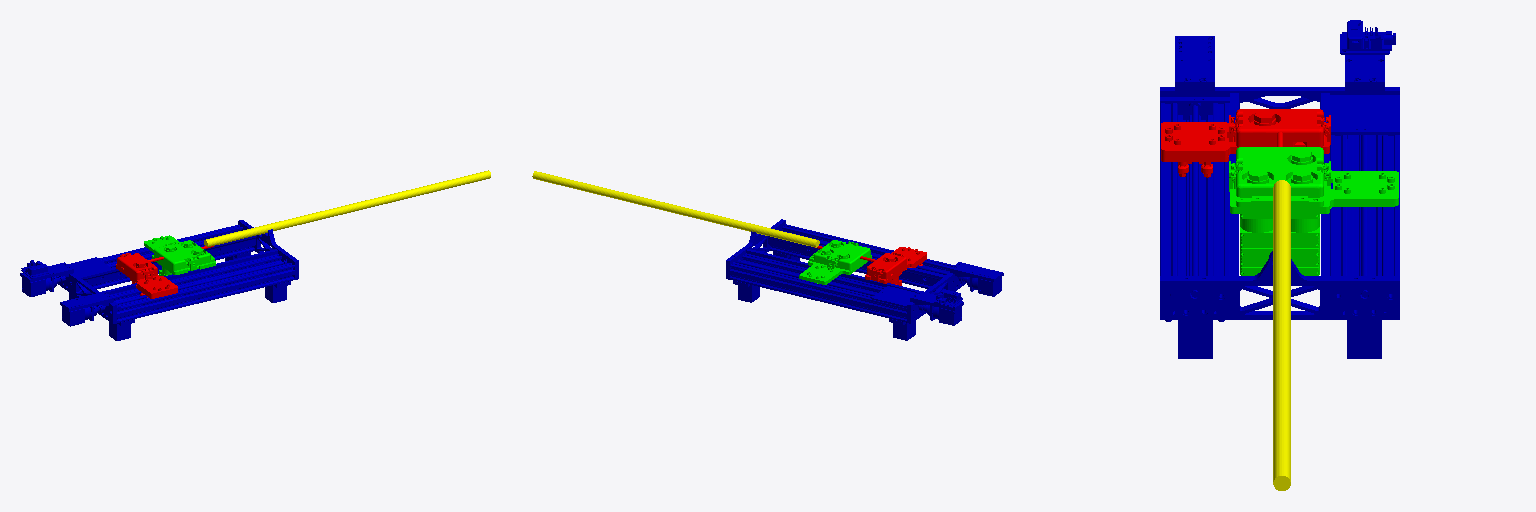
--- What the picture shows (computed from the rendered views, not written in the file) ---
Views: 3 orthographic renders of the robot side by side, from view 1: azimuth 30°, elevation 25°; view 2: azimuth 150°, elevation 25°; view 3: azimuth 270°, elevation 25°.
Robot: manipulator — 94 links, 93 joints (90 revolute, 2 prismatic, 1 fixed); root link base_link; default pose: all joints at 0.
Links seen in each view (by area): view 1: base_link, link_outer, link_inner, link_0; view 2: base_link, link_outer, link_inner, link_0; view 3: base_link, link_outer, link_inner, link_0.
Boxes of the visible links, x1=… form: base_link: x1=20, y1=220, x2=298, y2=340; link_outer: x1=144, y1=235, x2=215, y2=275; link_inner: x1=116, y1=246, x2=213, y2=298; link_0: x1=204, y1=222, x2=278, y2=246; base_link: x1=726, y1=219, x2=1003, y2=340; link_outer: x1=799, y1=240, x2=871, y2=284; link_inner: x1=814, y1=246, x2=926, y2=285; link_0: x1=745, y1=223, x2=819, y2=247; base_link: x1=1160, y1=20, x2=1399, y2=358; link_outer: x1=1229, y1=147, x2=1398, y2=275; link_inner: x1=1161, y1=109, x2=1330, y2=177; link_0: x1=1273, y1=180, x2=1290, y2=260.
Size in the robot's own frame: 1.26 by 0.2743 by 0.151 metres.
Meshes: 3 distinct files referenced, 3 mesh visuals loaded (3 binary STL).

The robot description file, URDF, robot "manipulator":
<?xml version="1.0" ?>
<!-- =================================================================================== -->
<!-- |    This document was autogenerated by xacro from medsnake.xacro                 | -->
<!-- |    EDITING THIS FILE BY HAND IS NOT RECOMMENDED                                 | -->
<!-- =================================================================================== -->
<robot name="manipulator">
  <material name="white">
    <color rgba="1 1 1 1"/>
  </material>
  <material name="blue">
    <color rgba="0 0 .8 1"/>
  </material>
  <material name="yellow">
    <color rgba="1 1 0 1"/>
  </material>
  <material name="green">
    <color rgba="0 1 0 1"/>
  </material>
  <material name="orange">
    <color rgba="0.255 0.165 0 1"/>
  </material>
  <material name="red">
    <color rgba="1 0 0 1"/>
  </material>
  <link name="base_link">
    <visual>
      <geometry>
        <mesh filename="package://medsnake_sim/meshModel/base_part.STL" scale="0.001 0.001 0.001"/>
      </geometry>
      <origin rpy="1.5707963 0 -1.5707963" xyz="0.822 0.315 -0.22"/>
      <material name="blue"/>
    </visual>
  </link>
  <joint name="joint_inner" type="prismatic">
    <parent link="base_link"/>
    <child link="link_inner"/>
    <origin rpy="1.5707963 0 1.5707963" xyz="0.1 0 0.04"/>
    <limit effort="1000" lower="0" upper="0.35000000000000003" velocity="180"/>
    <axis xyz="0 0 1"/>
  </joint>
  <link name="link_inner">
    <inertial>
      <origin rpy="0 0 0" xyz="0 -0.016 0.161"/>
      <mass value="7.7"/>
      <inertia ixx="0.06718763333333333" ixy="0" ixz="0" iyy="0.06653056666666667" iyz="0" izz="0.0006570666666666666"/>
    </inertial>
    <visual>
      <geometry>
        <mesh filename="package://medsnake_sim/meshModel/inner_part.STL" scale="0.001 0.001 0.001"/>
      </geometry>
      <origin rpy="0 3.1415926 0" xyz="0.315 -0.26 0.732"/>
      <material name="red"/>
    </visual>
  </link>
  <joint name="joint_outer" type="prismatic">
    <parent link="base_link"/>
    <child link="link_outer"/>
    <origin rpy="1.5707963 0 1.5707963" xyz="0.2 0 0.04"/>
    <limit effort="1000" lower="0" upper="0.35000000000000003" velocity="180"/>
    <axis xyz="0 0 1"/>
  </joint>
  <link name="link_outer">
    <inertial>
      <origin rpy="1.5707963 0 1.5707963" xyz="0 -0.016 0.161"/>
      <mass value="7.7"/>
      <inertia ixx="0.06718763333333333" ixy="0" ixz="0" iyy="0.06653056666666667" iyz="0" izz="0.0006570666666666666"/>
    </inertial>
    <visual>
      <geometry>
        <mesh filename="package://medsnake_sim/meshModel/outer_part.STL" scale="0.001 0.001 0.001"/>
      </geometry>
      <origin rpy="0 3.1415926 0" xyz="0.315 -0.26 0.662"/>
      <material name="green"/>
    </visual>
  </link>
  <joint name="joint_snake" type="fixed">
    <parent link="link_outer"/>
    <child link="link_0"/>
    <origin rpy="0 0 0" xyz="0 0 0.12"/>
    <limit effort="1000" lower="0" upper="0.35000000000000003" velocity="180"/>
    <axis xyz="0 0 1"/>
  </joint>
  <link name="link_0">
    <visual>
      <geometry>
        <cylinder length="0.2" radius="0.01"/>
      </geometry>
      <origin rpy="0 0 0" xyz="0 0 0.1"/>
      <material name="yellow"/>
    </visual>
    <collision>
      <geometry>
        <cylinder length="0.2" radius="0.01"/>
      </geometry>
      <origin rpy="0 0 0" xyz="0 0 0.1"/>
    </collision>
  </link>
  <link name="link_30">
    <visual>
      <geometry>
        <cylinder length="0.02" radius="0.01"/>
      </geometry>
      <origin rpy="0 0 0" xyz="0 0 0.01"/>
      <material name="yellow"/>
    </visual>
    <collision>
      <geometry>
        <cylinder length="0.02" radius="0.01"/>
      </geometry>
      <origin rpy="0 0 0" xyz="0 0 0.01"/>
    </collision>
  </link>
  <joint name="balljoint_30_0" type="revolute">
    <parent link="link_29"/>
    <child link="zero_link_30_0"/>
    <origin rpy="0 0 0" xyz="0 0 0.02"/>
    <axis xyz="1 0 0"/>
    <limit effort="1000.0" lower="-0.78" upper="0.78" velocity="0.5"/>
  </joint>
  <link name="zero_link_30_0">
    <visual>
      <geometry>
        <cylinder length="0" radius="0"/>
      </geometry>
      <origin rpy="0 0 0" xyz="0 0 0"/>
    </visual>
  </link>
  <joint name="balljoint_30_1" type="revolute">
    <parent link="zero_link_30_0"/>
    <child link="zero_link_30_1"/>
    <origin rpy="0 0 0" xyz="0 0 0"/>
    <axis xyz="0 1 0"/>
    <limit effort="1000.0" lower="-0.78" upper="0.78" velocity="0.5"/>
  </joint>
  <link name="zero_link_30_1">
    <visual>
      <geometry>
        <cylinder length="0" radius="0"/>
      </geometry>
      <origin rpy="0 0 0" xyz="0 0 0"/>
    </visual>
  </link>
  <joint name="balljoint_30_2" type="revolute">
    <parent link="zero_link_30_1"/>
    <child link="link_30"/>
    <origin rpy="0 0 0" xyz="0 0 0"/>
    <axis xyz="0 0 1"/>
    <limit effort="1000.0" lower="-0.78" upper="0.78" velocity="0.5"/>
  </joint>
  <link name="link_29">
    <visual>
      <geometry>
        <cylinder length="0.02" radius="0.01"/>
      </geometry>
      <origin rpy="0 0 0" xyz="0 0 0.01"/>
      <material name="yellow"/>
    </visual>
    <collision>
      <geometry>
        <cylinder length="0.02" radius="0.01"/>
      </geometry>
      <origin rpy="0 0 0" xyz="0 0 0.01"/>
    </collision>
  </link>
  <joint name="balljoint_29_0" type="revolute">
    <parent link="link_28"/>
    <child link="zero_link_29_0"/>
    <origin rpy="0 0 0" xyz="0 0 0.02"/>
    <axis xyz="1 0 0"/>
    <limit effort="1000.0" lower="-0.78" upper="0.78" velocity="0.5"/>
  </joint>
  <link name="zero_link_29_0">
    <visual>
      <geometry>
        <cylinder length="0" radius="0"/>
      </geometry>
      <origin rpy="0 0 0" xyz="0 0 0"/>
    </visual>
  </link>
  <joint name="balljoint_29_1" type="revolute">
    <parent link="zero_link_29_0"/>
    <child link="zero_link_29_1"/>
    <origin rpy="0 0 0" xyz="0 0 0"/>
    <axis xyz="0 1 0"/>
    <limit effort="1000.0" lower="-0.78" upper="0.78" velocity="0.5"/>
  </joint>
  <link name="zero_link_29_1">
    <visual>
      <geometry>
        <cylinder length="0" radius="0"/>
      </geometry>
      <origin rpy="0 0 0" xyz="0 0 0"/>
    </visual>
  </link>
  <joint name="balljoint_29_2" type="revolute">
    <parent link="zero_link_29_1"/>
    <child link="link_29"/>
    <origin rpy="0 0 0" xyz="0 0 0"/>
    <axis xyz="0 0 1"/>
    <limit effort="1000.0" lower="-0.78" upper="0.78" velocity="0.5"/>
  </joint>
  <link name="link_28">
    <visual>
      <geometry>
        <cylinder length="0.02" radius="0.01"/>
      </geometry>
      <origin rpy="0 0 0" xyz="0 0 0.01"/>
      <material name="yellow"/>
    </visual>
    <collision>
      <geometry>
        <cylinder length="0.02" radius="0.01"/>
      </geometry>
      <origin rpy="0 0 0" xyz="0 0 0.01"/>
    </collision>
  </link>
  <joint name="balljoint_28_0" type="revolute">
    <parent link="link_27"/>
    <child link="zero_link_28_0"/>
    <origin rpy="0 0 0" xyz="0 0 0.02"/>
    <axis xyz="1 0 0"/>
    <limit effort="1000.0" lower="-0.78" upper="0.78" velocity="0.5"/>
  </joint>
  <link name="zero_link_28_0">
    <visual>
      <geometry>
        <cylinder length="0" radius="0"/>
      </geometry>
      <origin rpy="0 0 0" xyz="0 0 0"/>
    </visual>
  </link>
  <joint name="balljoint_28_1" type="revolute">
    <parent link="zero_link_28_0"/>
    <child link="zero_link_28_1"/>
    <origin rpy="0 0 0" xyz="0 0 0"/>
    <axis xyz="0 1 0"/>
    <limit effort="1000.0" lower="-0.78" upper="0.78" velocity="0.5"/>
  </joint>
  <link name="zero_link_28_1">
    <visual>
      <geometry>
        <cylinder length="0" radius="0"/>
      </geometry>
      <origin rpy="0 0 0" xyz="0 0 0"/>
    </visual>
  </link>
  <joint name="balljoint_28_2" type="revolute">
    <parent link="zero_link_28_1"/>
    <child link="link_28"/>
    <origin rpy="0 0 0" xyz="0 0 0"/>
    <axis xyz="0 0 1"/>
    <limit effort="1000.0" lower="-0.78" upper="0.78" velocity="0.5"/>
  </joint>
  <link name="link_27">
    <visual>
      <geometry>
        <cylinder length="0.02" radius="0.01"/>
      </geometry>
      <origin rpy="0 0 0" xyz="0 0 0.01"/>
      <material name="yellow"/>
    </visual>
    <collision>
      <geometry>
        <cylinder length="0.02" radius="0.01"/>
      </geometry>
      <origin rpy="0 0 0" xyz="0 0 0.01"/>
    </collision>
  </link>
  <joint name="balljoint_27_0" type="revolute">
    <parent link="link_26"/>
    <child link="zero_link_27_0"/>
    <origin rpy="0 0 0" xyz="0 0 0.02"/>
    <axis xyz="1 0 0"/>
    <limit effort="1000.0" lower="-0.78" upper="0.78" velocity="0.5"/>
  </joint>
  <link name="zero_link_27_0">
    <visual>
      <geometry>
        <cylinder length="0" radius="0"/>
      </geometry>
      <origin rpy="0 0 0" xyz="0 0 0"/>
    </visual>
  </link>
  <joint name="balljoint_27_1" type="revolute">
    <parent link="zero_link_27_0"/>
    <child link="zero_link_27_1"/>
    <origin rpy="0 0 0" xyz="0 0 0"/>
    <axis xyz="0 1 0"/>
    <limit effort="1000.0" lower="-0.78" upper="0.78" velocity="0.5"/>
  </joint>
  <link name="zero_link_27_1">
    <visual>
      <geometry>
        <cylinder length="0" radius="0"/>
      </geometry>
      <origin rpy="0 0 0" xyz="0 0 0"/>
    </visual>
  </link>
  <joint name="balljoint_27_2" type="revolute">
    <parent link="zero_link_27_1"/>
    <child link="link_27"/>
    <origin rpy="0 0 0" xyz="0 0 0"/>
    <axis xyz="0 0 1"/>
    <limit effort="1000.0" lower="-0.78" upper="0.78" velocity="0.5"/>
  </joint>
  <link name="link_26">
    <visual>
      <geometry>
        <cylinder length="0.02" radius="0.01"/>
      </geometry>
      <origin rpy="0 0 0" xyz="0 0 0.01"/>
      <material name="yellow"/>
    </visual>
    <collision>
      <geometry>
        <cylinder length="0.02" radius="0.01"/>
      </geometry>
      <origin rpy="0 0 0" xyz="0 0 0.01"/>
    </collision>
  </link>
  <joint name="balljoint_26_0" type="revolute">
    <parent link="link_25"/>
    <child link="zero_link_26_0"/>
    <origin rpy="0 0 0" xyz="0 0 0.02"/>
    <axis xyz="1 0 0"/>
    <limit effort="1000.0" lower="-0.78" upper="0.78" velocity="0.5"/>
  </joint>
  <link name="zero_link_26_0">
    <visual>
      <geometry>
        <cylinder length="0" radius="0"/>
      </geometry>
      <origin rpy="0 0 0" xyz="0 0 0"/>
    </visual>
  </link>
  <joint name="balljoint_26_1" type="revolute">
    <parent link="zero_link_26_0"/>
    <child link="zero_link_26_1"/>
    <origin rpy="0 0 0" xyz="0 0 0"/>
    <axis xyz="0 1 0"/>
    <limit effort="1000.0" lower="-0.78" upper="0.78" velocity="0.5"/>
  </joint>
  <link name="zero_link_26_1">
    <visual>
      <geometry>
        <cylinder length="0" radius="0"/>
      </geometry>
      <origin rpy="0 0 0" xyz="0 0 0"/>
    </visual>
  </link>
  <joint name="balljoint_26_2" type="revolute">
    <parent link="zero_link_26_1"/>
    <child link="link_26"/>
    <origin rpy="0 0 0" xyz="0 0 0"/>
    <axis xyz="0 0 1"/>
    <limit effort="1000.0" lower="-0.78" upper="0.78" velocity="0.5"/>
  </joint>
  <link name="link_25">
    <visual>
      <geometry>
        <cylinder length="0.02" radius="0.01"/>
      </geometry>
      <origin rpy="0 0 0" xyz="0 0 0.01"/>
      <material name="yellow"/>
    </visual>
    <collision>
      <geometry>
        <cylinder length="0.02" radius="0.01"/>
      </geometry>
      <origin rpy="0 0 0" xyz="0 0 0.01"/>
    </collision>
  </link>
  <joint name="balljoint_25_0" type="revolute">
    <parent link="link_24"/>
    <child link="zero_link_25_0"/>
    <origin rpy="0 0 0" xyz="0 0 0.02"/>
    <axis xyz="1 0 0"/>
    <limit effort="1000.0" lower="-0.78" upper="0.78" velocity="0.5"/>
  </joint>
  <link name="zero_link_25_0">
    <visual>
      <geometry>
        <cylinder length="0" radius="0"/>
      </geometry>
      <origin rpy="0 0 0" xyz="0 0 0"/>
    </visual>
  </link>
  <joint name="balljoint_25_1" type="revolute">
    <parent link="zero_link_25_0"/>
    <child link="zero_link_25_1"/>
    <origin rpy="0 0 0" xyz="0 0 0"/>
    <axis xyz="0 1 0"/>
    <limit effort="1000.0" lower="-0.78" upper="0.78" velocity="0.5"/>
  </joint>
  <link name="zero_link_25_1">
    <visual>
      <geometry>
        <cylinder length="0" radius="0"/>
      </geometry>
      <origin rpy="0 0 0" xyz="0 0 0"/>
    </visual>
  </link>
  <joint name="balljoint_25_2" type="revolute">
    <parent link="zero_link_25_1"/>
    <child link="link_25"/>
    <origin rpy="0 0 0" xyz="0 0 0"/>
    <axis xyz="0 0 1"/>
    <limit effort="1000.0" lower="-0.78" upper="0.78" velocity="0.5"/>
  </joint>
  <link name="link_24">
    <visual>
      <geometry>
        <cylinder length="0.02" radius="0.01"/>
      </geometry>
      <origin rpy="0 0 0" xyz="0 0 0.01"/>
      <material name="yellow"/>
    </visual>
    <collision>
      <geometry>
        <cylinder length="0.02" radius="0.01"/>
      </geometry>
      <origin rpy="0 0 0" xyz="0 0 0.01"/>
    </collision>
  </link>
  <joint name="balljoint_24_0" type="revolute">
    <parent link="link_23"/>
    <child link="zero_link_24_0"/>
    <origin rpy="0 0 0" xyz="0 0 0.02"/>
    <axis xyz="1 0 0"/>
    <limit effort="1000.0" lower="-0.78" upper="0.78" velocity="0.5"/>
  </joint>
  <link name="zero_link_24_0">
    <visual>
      <geometry>
        <cylinder length="0" radius="0"/>
      </geometry>
      <origin rpy="0 0 0" xyz="0 0 0"/>
    </visual>
  </link>
  <joint name="balljoint_24_1" type="revolute">
    <parent link="zero_link_24_0"/>
    <child link="zero_link_24_1"/>
    <origin rpy="0 0 0" xyz="0 0 0"/>
    <axis xyz="0 1 0"/>
    <limit effort="1000.0" lower="-0.78" upper="0.78" velocity="0.5"/>
  </joint>
  <link name="zero_link_24_1">
    <visual>
      <geometry>
        <cylinder length="0" radius="0"/>
      </geometry>
      <origin rpy="0 0 0" xyz="0 0 0"/>
    </visual>
  </link>
  <joint name="balljoint_24_2" type="revolute">
    <parent link="zero_link_24_1"/>
    <child link="link_24"/>
    <origin rpy="0 0 0" xyz="0 0 0"/>
    <axis xyz="0 0 1"/>
    <limit effort="1000.0" lower="-0.78" upper="0.78" velocity="0.5"/>
  </joint>
  <link name="link_23">
    <visual>
      <geometry>
        <cylinder length="0.02" radius="0.01"/>
      </geometry>
      <origin rpy="0 0 0" xyz="0 0 0.01"/>
      <material name="yellow"/>
    </visual>
    <collision>
      <geometry>
        <cylinder length="0.02" radius="0.01"/>
      </geometry>
      <origin rpy="0 0 0" xyz="0 0 0.01"/>
    </collision>
  </link>
  <joint name="balljoint_23_0" type="revolute">
    <parent link="link_22"/>
    <child link="zero_link_23_0"/>
    <origin rpy="0 0 0" xyz="0 0 0.02"/>
    <axis xyz="1 0 0"/>
    <limit effort="1000.0" lower="-0.78" upper="0.78" velocity="0.5"/>
  </joint>
  <link name="zero_link_23_0">
    <visual>
      <geometry>
        <cylinder length="0" radius="0"/>
      </geometry>
      <origin rpy="0 0 0" xyz="0 0 0"/>
    </visual>
  </link>
  <joint name="balljoint_23_1" type="revolute">
    <parent link="zero_link_23_0"/>
    <child link="zero_link_23_1"/>
    <origin rpy="0 0 0" xyz="0 0 0"/>
    <axis xyz="0 1 0"/>
    <limit effort="1000.0" lower="-0.78" upper="0.78" velocity="0.5"/>
  </joint>
  <link name="zero_link_23_1">
    <visual>
      <geometry>
        <cylinder length="0" radius="0"/>
      </geometry>
      <origin rpy="0 0 0" xyz="0 0 0"/>
    </visual>
  </link>
  <joint name="balljoint_23_2" type="revolute">
    <parent link="zero_link_23_1"/>
    <child link="link_23"/>
    <origin rpy="0 0 0" xyz="0 0 0"/>
    <axis xyz="0 0 1"/>
    <limit effort="1000.0" lower="-0.78" upper="0.78" velocity="0.5"/>
  </joint>
  <link name="link_22">
    <visual>
      <geometry>
        <cylinder length="0.02" radius="0.01"/>
      </geometry>
      <origin rpy="0 0 0" xyz="0 0 0.01"/>
      <material name="yellow"/>
    </visual>
    <collision>
      <geometry>
        <cylinder length="0.02" radius="0.01"/>
      </geometry>
      <origin rpy="0 0 0" xyz="0 0 0.01"/>
    </collision>
  </link>
  <joint name="balljoint_22_0" type="revolute">
    <parent link="link_21"/>
    <child link="zero_link_22_0"/>
    <origin rpy="0 0 0" xyz="0 0 0.02"/>
    <axis xyz="1 0 0"/>
    <limit effort="1000.0" lower="-0.78" upper="0.78" velocity="0.5"/>
  </joint>
  <link name="zero_link_22_0">
    <visual>
      <geometry>
        <cylinder length="0" radius="0"/>
      </geometry>
      <origin rpy="0 0 0" xyz="0 0 0"/>
    </visual>
  </link>
  <joint name="balljoint_22_1" type="revolute">
    <parent link="zero_link_22_0"/>
    <child link="zero_link_22_1"/>
    <origin rpy="0 0 0" xyz="0 0 0"/>
    <axis xyz="0 1 0"/>
    <limit effort="1000.0" lower="-0.78" upper="0.78" velocity="0.5"/>
  </joint>
  <link name="zero_link_22_1">
    <visual>
      <geometry>
        <cylinder length="0" radius="0"/>
      </geometry>
      <origin rpy="0 0 0" xyz="0 0 0"/>
    </visual>
  </link>
  <joint name="balljoint_22_2" type="revolute">
    <parent link="zero_link_22_1"/>
    <child link="link_22"/>
    <origin rpy="0 0 0" xyz="0 0 0"/>
    <axis xyz="0 0 1"/>
    <limit effort="1000.0" lower="-0.78" upper="0.78" velocity="0.5"/>
  </joint>
  <link name="link_21">
    <visual>
      <geometry>
        <cylinder length="0.02" radius="0.01"/>
      </geometry>
      <origin rpy="0 0 0" xyz="0 0 0.01"/>
      <material name="yellow"/>
    </visual>
    <collision>
      <geometry>
        <cylinder length="0.02" radius="0.01"/>
      </geometry>
      <origin rpy="0 0 0" xyz="0 0 0.01"/>
    </collision>
  </link>
  <joint name="balljoint_21_0" type="revolute">
    <parent link="link_20"/>
    <child link="zero_link_21_0"/>
    <origin rpy="0 0 0" xyz="0 0 0.02"/>
    <axis xyz="1 0 0"/>
    <limit effort="1000.0" lower="-0.78" upper="0.78" velocity="0.5"/>
  </joint>
  <link name="zero_link_21_0">
    <visual>
      <geometry>
        <cylinder length="0" radius="0"/>
      </geometry>
      <origin rpy="0 0 0" xyz="0 0 0"/>
    </visual>
  </link>
  <joint name="balljoint_21_1" type="revolute">
    <parent link="zero_link_21_0"/>
    <child link="zero_link_21_1"/>
    <origin rpy="0 0 0" xyz="0 0 0"/>
    <axis xyz="0 1 0"/>
    <limit effort="1000.0" lower="-0.78" upper="0.78" velocity="0.5"/>
  </joint>
  <link name="zero_link_21_1">
    <visual>
      <geometry>
        <cylinder length="0" radius="0"/>
      </geometry>
      <origin rpy="0 0 0" xyz="0 0 0"/>
    </visual>
  </link>
  <joint name="balljoint_21_2" type="revolute">
    <parent link="zero_link_21_1"/>
    <child link="link_21"/>
    <origin rpy="0 0 0" xyz="0 0 0"/>
    <axis xyz="0 0 1"/>
    <limit effort="1000.0" lower="-0.78" upper="0.78" velocity="0.5"/>
  </joint>
  <link name="link_20">
    <visual>
      <geometry>
        <cylinder length="0.02" radius="0.01"/>
      </geometry>
      <origin rpy="0 0 0" xyz="0 0 0.01"/>
      <material name="yellow"/>
    </visual>
    <collision>
      <geometry>
        <cylinder length="0.02" radius="0.01"/>
      </geometry>
      <origin rpy="0 0 0" xyz="0 0 0.01"/>
    </collision>
  </link>
  <joint name="balljoint_20_0" type="revolute">
    <parent link="link_19"/>
    <child link="zero_link_20_0"/>
    <origin rpy="0 0 0" xyz="0 0 0.02"/>
    <axis xyz="1 0 0"/>
    <limit effort="1000.0" lower="-0.78" upper="0.78" velocity="0.5"/>
  </joint>
  <link name="zero_link_20_0">
    <visual>
      <geometry>
        <cylinder length="0" radius="0"/>
      </geometry>
      <origin rpy="0 0 0" xyz="0 0 0"/>
    </visual>
  </link>
  <joint name="balljoint_20_1" type="revolute">
    <parent link="zero_link_20_0"/>
    <child link="zero_link_20_1"/>
    <origin rpy="0 0 0" xyz="0 0 0"/>
    <axis xyz="0 1 0"/>
    <limit effort="1000.0" lower="-0.78" upper="0.78" velocity="0.5"/>
  </joint>
  <link name="zero_link_20_1">
    <visual>
      <geometry>
        <cylinder length="0" radius="0"/>
      </geometry>
      <origin rpy="0 0 0" xyz="0 0 0"/>
    </visual>
  </link>
  <joint name="balljoint_20_2" type="revolute">
    <parent link="zero_link_20_1"/>
    <child link="link_20"/>
    <origin rpy="0 0 0" xyz="0 0 0"/>
    <axis xyz="0 0 1"/>
    <limit effort="1000.0" lower="-0.78" upper="0.78" velocity="0.5"/>
  </joint>
  <link name="link_19">
    <visual>
      <geometry>
        <cylinder length="0.02" radius="0.01"/>
      </geometry>
      <origin rpy="0 0 0" xyz="0 0 0.01"/>
      <material name="yellow"/>
    </visual>
    <collision>
      <geometry>
        <cylinder length="0.02" radius="0.01"/>
      </geometry>
      <origin rpy="0 0 0" xyz="0 0 0.01"/>
    </collision>
  </link>
  <joint name="balljoint_19_0" type="revolute">
    <parent link="link_18"/>
    <child link="zero_link_19_0"/>
    <origin rpy="0 0 0" xyz="0 0 0.02"/>
    <axis xyz="1 0 0"/>
    <limit effort="1000.0" lower="-0.78" upper="0.78" velocity="0.5"/>
  </joint>
  <link name="zero_link_19_0">
    <visual>
      <geometry>
        <cylinder length="0" radius="0"/>
      </geometry>
      <origin rpy="0 0 0" xyz="0 0 0"/>
    </visual>
  </link>
  <joint name="balljoint_19_1" type="revolute">
    <parent link="zero_link_19_0"/>
    <child link="zero_link_19_1"/>
    <origin rpy="0 0 0" xyz="0 0 0"/>
    <axis xyz="0 1 0"/>
    <limit effort="1000.0" lower="-0.78" upper="0.78" velocity="0.5"/>
  </joint>
  <link name="zero_link_19_1">
    <visual>
      <geometry>
        <cylinder length="0" radius="0"/>
      </geometry>
      <origin rpy="0 0 0" xyz="0 0 0"/>
    </visual>
  </link>
  <joint name="balljoint_19_2" type="revolute">
    <parent link="zero_link_19_1"/>
    <child link="link_19"/>
    <origin rpy="0 0 0" xyz="0 0 0"/>
    <axis xyz="0 0 1"/>
    <limit effort="1000.0" lower="-0.78" upper="0.78" velocity="0.5"/>
  </joint>
  <link name="link_18">
    <visual>
      <geometry>
        <cylinder length="0.02" radius="0.01"/>
      </geometry>
      <origin rpy="0 0 0" xyz="0 0 0.01"/>
      <material name="yellow"/>
    </visual>
    <collision>
      <geometry>
        <cylinder length="0.02" radius="0.01"/>
      </geometry>
      <origin rpy="0 0 0" xyz="0 0 0.01"/>
    </collision>
  </link>
  <joint name="balljoint_18_0" type="revolute">
    <parent link="link_17"/>
    <child link="zero_link_18_0"/>
    <origin rpy="0 0 0" xyz="0 0 0.02"/>
    <axis xyz="1 0 0"/>
    <limit effort="1000.0" lower="-0.78" upper="0.78" velocity="0.5"/>
  </joint>
  <link name="zero_link_18_0">
    <visual>
      <geometry>
        <cylinder length="0" radius="0"/>
      </geometry>
      <origin rpy="0 0 0" xyz="0 0 0"/>
    </visual>
  </link>
  <joint name="balljoint_18_1" type="revolute">
    <parent link="zero_link_18_0"/>
    <child link="zero_link_18_1"/>
    <origin rpy="0 0 0" xyz="0 0 0"/>
    <axis xyz="0 1 0"/>
    <limit effort="1000.0" lower="-0.78" upper="0.78" velocity="0.5"/>
  </joint>
  <link name="zero_link_18_1">
    <visual>
      <geometry>
        <cylinder length="0" radius="0"/>
      </geometry>
      <origin rpy="0 0 0" xyz="0 0 0"/>
    </visual>
  </link>
  <joint name="balljoint_18_2" type="revolute">
    <parent link="zero_link_18_1"/>
    <child link="link_18"/>
    <origin rpy="0 0 0" xyz="0 0 0"/>
    <axis xyz="0 0 1"/>
    <limit effort="1000.0" lower="-0.78" upper="0.78" velocity="0.5"/>
  </joint>
  <link name="link_17">
    <visual>
      <geometry>
        <cylinder length="0.02" radius="0.01"/>
      </geometry>
      <origin rpy="0 0 0" xyz="0 0 0.01"/>
      <material name="yellow"/>
    </visual>
    <collision>
      <geometry>
        <cylinder length="0.02" radius="0.01"/>
      </geometry>
      <origin rpy="0 0 0" xyz="0 0 0.01"/>
    </collision>
  </link>
  <joint name="balljoint_17_0" type="revolute">
    <parent link="link_16"/>
    <child link="zero_link_17_0"/>
    <origin rpy="0 0 0" xyz="0 0 0.02"/>
    <axis xyz="1 0 0"/>
    <limit effort="1000.0" lower="-0.78" upper="0.78" velocity="0.5"/>
  </joint>
  <link name="zero_link_17_0">
    <visual>
      <geometry>
        <cylinder length="0" radius="0"/>
      </geometry>
      <origin rpy="0 0 0" xyz="0 0 0"/>
    </visual>
  </link>
  <joint name="balljoint_17_1" type="revolute">
    <parent link="zero_link_17_0"/>
    <child link="zero_link_17_1"/>
    <origin rpy="0 0 0" xyz="0 0 0"/>
    <axis xyz="0 1 0"/>
    <limit effort="1000.0" lower="-0.78" upper="0.78" velocity="0.5"/>
  </joint>
  <link name="zero_link_17_1">
    <visual>
      <geometry>
        <cylinder length="0" radius="0"/>
      </geometry>
      <origin rpy="0 0 0" xyz="0 0 0"/>
    </visual>
  </link>
  <joint name="balljoint_17_2" type="revolute">
    <parent link="zero_link_17_1"/>
    <child link="link_17"/>
    <origin rpy="0 0 0" xyz="0 0 0"/>
    <axis xyz="0 0 1"/>
    <limit effort="1000.0" lower="-0.78" upper="0.78" velocity="0.5"/>
  </joint>
  <link name="link_16">
    <visual>
      <geometry>
        <cylinder length="0.02" radius="0.01"/>
      </geometry>
      <origin rpy="0 0 0" xyz="0 0 0.01"/>
      <material name="yellow"/>
    </visual>
    <collision>
      <geometry>
        <cylinder length="0.02" radius="0.01"/>
      </geometry>
      <origin rpy="0 0 0" xyz="0 0 0.01"/>
    </collision>
  </link>
  <joint name="balljoint_16_0" type="revolute">
    <parent link="link_15"/>
    <child link="zero_link_16_0"/>
    <origin rpy="0 0 0" xyz="0 0 0.02"/>
    <axis xyz="1 0 0"/>
    <limit effort="1000.0" lower="-0.78" upper="0.78" velocity="0.5"/>
  </joint>
  <link name="zero_link_16_0">
    <visual>
      <geometry>
        <cylinder length="0" radius="0"/>
      </geometry>
      <origin rpy="0 0 0" xyz="0 0 0"/>
    </visual>
  </link>
  <joint name="balljoint_16_1" type="revolute">
    <parent link="zero_link_16_0"/>
    <child link="zero_link_16_1"/>
    <origin rpy="0 0 0" xyz="0 0 0"/>
    <axis xyz="0 1 0"/>
    <limit effort="1000.0" lower="-0.78" upper="0.78" velocity="0.5"/>
  </joint>
  <link name="zero_link_16_1">
    <visual>
      <geometry>
        <cylinder length="0" radius="0"/>
      </geometry>
      <origin rpy="0 0 0" xyz="0 0 0"/>
    </visual>
  </link>
  <joint name="balljoint_16_2" type="revolute">
    <parent link="zero_link_16_1"/>
    <child link="link_16"/>
    <origin rpy="0 0 0" xyz="0 0 0"/>
    <axis xyz="0 0 1"/>
    <limit effort="1000.0" lower="-0.78" upper="0.78" velocity="0.5"/>
  </joint>
  <link name="link_15">
    <visual>
      <geometry>
        <cylinder length="0.02" radius="0.01"/>
      </geometry>
      <origin rpy="0 0 0" xyz="0 0 0.01"/>
      <material name="yellow"/>
    </visual>
    <collision>
      <geometry>
        <cylinder length="0.02" radius="0.01"/>
      </geometry>
      <origin rpy="0 0 0" xyz="0 0 0.01"/>
    </collision>
  </link>
  <joint name="balljoint_15_0" type="revolute">
    <parent link="link_14"/>
    <child link="zero_link_15_0"/>
    <origin rpy="0 0 0" xyz="0 0 0.02"/>
    <axis xyz="1 0 0"/>
    <limit effort="1000.0" lower="-0.78" upper="0.78" velocity="0.5"/>
  </joint>
  <link name="zero_link_15_0">
    <visual>
      <geometry>
        <cylinder length="0" radius="0"/>
      </geometry>
      <origin rpy="0 0 0" xyz="0 0 0"/>
    </visual>
  </link>
  <joint name="balljoint_15_1" type="revolute">
    <parent link="zero_link_15_0"/>
    <child link="zero_link_15_1"/>
    <origin rpy="0 0 0" xyz="0 0 0"/>
    <axis xyz="0 1 0"/>
    <limit effort="1000.0" lower="-0.78" upper="0.78" velocity="0.5"/>
  </joint>
  <link name="zero_link_15_1">
    <visual>
      <geometry>
        <cylinder length="0" radius="0"/>
      </geometry>
      <origin rpy="0 0 0" xyz="0 0 0"/>
    </visual>
  </link>
  <joint name="balljoint_15_2" type="revolute">
    <parent link="zero_link_15_1"/>
    <child link="link_15"/>
    <origin rpy="0 0 0" xyz="0 0 0"/>
    <axis xyz="0 0 1"/>
    <limit effort="1000.0" lower="-0.78" upper="0.78" velocity="0.5"/>
  </joint>
  <link name="link_14">
    <visual>
      <geometry>
        <cylinder length="0.02" radius="0.01"/>
      </geometry>
      <origin rpy="0 0 0" xyz="0 0 0.01"/>
      <material name="yellow"/>
    </visual>
    <collision>
      <geometry>
        <cylinder length="0.02" radius="0.01"/>
      </geometry>
      <origin rpy="0 0 0" xyz="0 0 0.01"/>
    </collision>
  </link>
  <joint name="balljoint_14_0" type="revolute">
    <parent link="link_13"/>
    <child link="zero_link_14_0"/>
    <origin rpy="0 0 0" xyz="0 0 0.02"/>
    <axis xyz="1 0 0"/>
    <limit effort="1000.0" lower="-0.78" upper="0.78" velocity="0.5"/>
  </joint>
  <link name="zero_link_14_0">
    <visual>
      <geometry>
        <cylinder length="0" radius="0"/>
      </geometry>
      <origin rpy="0 0 0" xyz="0 0 0"/>
    </visual>
  </link>
  <joint name="balljoint_14_1" type="revolute">
    <parent link="zero_link_14_0"/>
    <child link="zero_link_14_1"/>
    <origin rpy="0 0 0" xyz="0 0 0"/>
    <axis xyz="0 1 0"/>
    <limit effort="1000.0" lower="-0.78" upper="0.78" velocity="0.5"/>
  </joint>
  <link name="zero_link_14_1">
    <visual>
      <geometry>
        <cylinder length="0" radius="0"/>
      </geometry>
      <origin rpy="0 0 0" xyz="0 0 0"/>
    </visual>
  </link>
  <joint name="balljoint_14_2" type="revolute">
    <parent link="zero_link_14_1"/>
    <child link="link_14"/>
    <origin rpy="0 0 0" xyz="0 0 0"/>
    <axis xyz="0 0 1"/>
    <limit effort="1000.0" lower="-0.78" upper="0.78" velocity="0.5"/>
  </joint>
  <link name="link_13">
    <visual>
      <geometry>
        <cylinder length="0.02" radius="0.01"/>
      </geometry>
      <origin rpy="0 0 0" xyz="0 0 0.01"/>
      <material name="yellow"/>
    </visual>
    <collision>
      <geometry>
        <cylinder length="0.02" radius="0.01"/>
      </geometry>
      <origin rpy="0 0 0" xyz="0 0 0.01"/>
    </collision>
  </link>
  <joint name="balljoint_13_0" type="revolute">
    <parent link="link_12"/>
    <child link="zero_link_13_0"/>
    <origin rpy="0 0 0" xyz="0 0 0.02"/>
    <axis xyz="1 0 0"/>
    <limit effort="1000.0" lower="-0.78" upper="0.78" velocity="0.5"/>
  </joint>
  <link name="zero_link_13_0">
    <visual>
      <geometry>
        <cylinder length="0" radius="0"/>
      </geometry>
      <origin rpy="0 0 0" xyz="0 0 0"/>
    </visual>
  </link>
  <joint name="balljoint_13_1" type="revolute">
    <parent link="zero_link_13_0"/>
    <child link="zero_link_13_1"/>
    <origin rpy="0 0 0" xyz="0 0 0"/>
    <axis xyz="0 1 0"/>
    <limit effort="1000.0" lower="-0.78" upper="0.78" velocity="0.5"/>
  </joint>
  <link name="zero_link_13_1">
    <visual>
      <geometry>
        <cylinder length="0" radius="0"/>
      </geometry>
      <origin rpy="0 0 0" xyz="0 0 0"/>
    </visual>
  </link>
  <joint name="balljoint_13_2" type="revolute">
    <parent link="zero_link_13_1"/>
    <child link="link_13"/>
    <origin rpy="0 0 0" xyz="0 0 0"/>
    <axis xyz="0 0 1"/>
    <limit effort="1000.0" lower="-0.78" upper="0.78" velocity="0.5"/>
  </joint>
  <link name="link_12">
    <visual>
      <geometry>
        <cylinder length="0.02" radius="0.01"/>
      </geometry>
      <origin rpy="0 0 0" xyz="0 0 0.01"/>
      <material name="yellow"/>
    </visual>
    <collision>
      <geometry>
        <cylinder length="0.02" radius="0.01"/>
      </geometry>
      <origin rpy="0 0 0" xyz="0 0 0.01"/>
    </collision>
  </link>
  <joint name="balljoint_12_0" type="revolute">
    <parent link="link_11"/>
    <child link="zero_link_12_0"/>
    <origin rpy="0 0 0" xyz="0 0 0.02"/>
    <axis xyz="1 0 0"/>
    <limit effort="1000.0" lower="-0.78" upper="0.78" velocity="0.5"/>
  </joint>
  <link name="zero_link_12_0">
    <visual>
      <geometry>
        <cylinder length="0" radius="0"/>
      </geometry>
      <origin rpy="0 0 0" xyz="0 0 0"/>
    </visual>
  </link>
  <joint name="balljoint_12_1" type="revolute">
    <parent link="zero_link_12_0"/>
    <child link="zero_link_12_1"/>
    <origin rpy="0 0 0" xyz="0 0 0"/>
    <axis xyz="0 1 0"/>
    <limit effort="1000.0" lower="-0.78" upper="0.78" velocity="0.5"/>
  </joint>
  <link name="zero_link_12_1">
    <visual>
      <geometry>
        <cylinder length="0" radius="0"/>
      </geometry>
      <origin rpy="0 0 0" xyz="0 0 0"/>
    </visual>
  </link>
  <joint name="balljoint_12_2" type="revolute">
    <parent link="zero_link_12_1"/>
    <child link="link_12"/>
    <origin rpy="0 0 0" xyz="0 0 0"/>
    <axis xyz="0 0 1"/>
    <limit effort="1000.0" lower="-0.78" upper="0.78" velocity="0.5"/>
  </joint>
  <link name="link_11">
    <visual>
      <geometry>
        <cylinder length="0.02" radius="0.01"/>
      </geometry>
      <origin rpy="0 0 0" xyz="0 0 0.01"/>
      <material name="yellow"/>
    </visual>
    <collision>
      <geometry>
        <cylinder length="0.02" radius="0.01"/>
      </geometry>
      <origin rpy="0 0 0" xyz="0 0 0.01"/>
    </collision>
  </link>
  <joint name="balljoint_11_0" type="revolute">
    <parent link="link_10"/>
    <child link="zero_link_11_0"/>
    <origin rpy="0 0 0" xyz="0 0 0.02"/>
    <axis xyz="1 0 0"/>
    <limit effort="1000.0" lower="-0.78" upper="0.78" velocity="0.5"/>
  </joint>
  <link name="zero_link_11_0">
    <visual>
      <geometry>
        <cylinder length="0" radius="0"/>
      </geometry>
      <origin rpy="0 0 0" xyz="0 0 0"/>
    </visual>
  </link>
  <joint name="balljoint_11_1" type="revolute">
    <parent link="zero_link_11_0"/>
    <child link="zero_link_11_1"/>
    <origin rpy="0 0 0" xyz="0 0 0"/>
    <axis xyz="0 1 0"/>
    <limit effort="1000.0" lower="-0.78" upper="0.78" velocity="0.5"/>
  </joint>
  <link name="zero_link_11_1">
    <visual>
      <geometry>
        <cylinder length="0" radius="0"/>
      </geometry>
      <origin rpy="0 0 0" xyz="0 0 0"/>
    </visual>
  </link>
  <joint name="balljoint_11_2" type="revolute">
    <parent link="zero_link_11_1"/>
    <child link="link_11"/>
    <origin rpy="0 0 0" xyz="0 0 0"/>
    <axis xyz="0 0 1"/>
    <limit effort="1000.0" lower="-0.78" upper="0.78" velocity="0.5"/>
  </joint>
  <link name="link_10">
    <visual>
      <geometry>
        <cylinder length="0.02" radius="0.01"/>
      </geometry>
      <origin rpy="0 0 0" xyz="0 0 0.01"/>
      <material name="yellow"/>
    </visual>
    <collision>
      <geometry>
        <cylinder length="0.02" radius="0.01"/>
      </geometry>
      <origin rpy="0 0 0" xyz="0 0 0.01"/>
    </collision>
  </link>
  <joint name="balljoint_10_0" type="revolute">
    <parent link="link_9"/>
    <child link="zero_link_10_0"/>
    <origin rpy="0 0 0" xyz="0 0 0.02"/>
    <axis xyz="1 0 0"/>
    <limit effort="1000.0" lower="-0.78" upper="0.78" velocity="0.5"/>
  </joint>
  <link name="zero_link_10_0">
    <visual>
      <geometry>
        <cylinder length="0" radius="0"/>
      </geometry>
      <origin rpy="0 0 0" xyz="0 0 0"/>
    </visual>
  </link>
  <joint name="balljoint_10_1" type="revolute">
    <parent link="zero_link_10_0"/>
    <child link="zero_link_10_1"/>
    <origin rpy="0 0 0" xyz="0 0 0"/>
    <axis xyz="0 1 0"/>
    <limit effort="1000.0" lower="-0.78" upper="0.78" velocity="0.5"/>
  </joint>
  <link name="zero_link_10_1">
    <visual>
      <geometry>
        <cylinder length="0" radius="0"/>
      </geometry>
      <origin rpy="0 0 0" xyz="0 0 0"/>
    </visual>
  </link>
  <joint name="balljoint_10_2" type="revolute">
    <parent link="zero_link_10_1"/>
    <child link="link_10"/>
    <origin rpy="0 0 0" xyz="0 0 0"/>
    <axis xyz="0 0 1"/>
    <limit effort="1000.0" lower="-0.78" upper="0.78" velocity="0.5"/>
  </joint>
  <link name="link_9">
    <visual>
      <geometry>
        <cylinder length="0.02" radius="0.01"/>
      </geometry>
      <origin rpy="0 0 0" xyz="0 0 0.01"/>
      <material name="yellow"/>
    </visual>
    <collision>
      <geometry>
        <cylinder length="0.02" radius="0.01"/>
      </geometry>
      <origin rpy="0 0 0" xyz="0 0 0.01"/>
    </collision>
  </link>
  <joint name="balljoint_9_0" type="revolute">
    <parent link="link_8"/>
    <child link="zero_link_9_0"/>
    <origin rpy="0 0 0" xyz="0 0 0.02"/>
    <axis xyz="1 0 0"/>
    <limit effort="1000.0" lower="-0.78" upper="0.78" velocity="0.5"/>
  </joint>
  <link name="zero_link_9_0">
    <visual>
      <geometry>
        <cylinder length="0" radius="0"/>
      </geometry>
      <origin rpy="0 0 0" xyz="0 0 0"/>
    </visual>
  </link>
  <joint name="balljoint_9_1" type="revolute">
    <parent link="zero_link_9_0"/>
    <child link="zero_link_9_1"/>
    <origin rpy="0 0 0" xyz="0 0 0"/>
    <axis xyz="0 1 0"/>
    <limit effort="1000.0" lower="-0.78" upper="0.78" velocity="0.5"/>
  </joint>
  <link name="zero_link_9_1">
    <visual>
      <geometry>
        <cylinder length="0" radius="0"/>
      </geometry>
      <origin rpy="0 0 0" xyz="0 0 0"/>
    </visual>
  </link>
  <joint name="balljoint_9_2" type="revolute">
    <parent link="zero_link_9_1"/>
    <child link="link_9"/>
    <origin rpy="0 0 0" xyz="0 0 0"/>
    <axis xyz="0 0 1"/>
    <limit effort="1000.0" lower="-0.78" upper="0.78" velocity="0.5"/>
  </joint>
  <link name="link_8">
    <visual>
      <geometry>
        <cylinder length="0.02" radius="0.01"/>
      </geometry>
      <origin rpy="0 0 0" xyz="0 0 0.01"/>
      <material name="yellow"/>
    </visual>
    <collision>
      <geometry>
        <cylinder length="0.02" radius="0.01"/>
      </geometry>
      <origin rpy="0 0 0" xyz="0 0 0.01"/>
    </collision>
  </link>
  <joint name="balljoint_8_0" type="revolute">
    <parent link="link_7"/>
    <child link="zero_link_8_0"/>
    <origin rpy="0 0 0" xyz="0 0 0.02"/>
    <axis xyz="1 0 0"/>
    <limit effort="1000.0" lower="-0.78" upper="0.78" velocity="0.5"/>
  </joint>
  <link name="zero_link_8_0">
    <visual>
      <geometry>
        <cylinder length="0" radius="0"/>
      </geometry>
      <origin rpy="0 0 0" xyz="0 0 0"/>
    </visual>
  </link>
  <joint name="balljoint_8_1" type="revolute">
    <parent link="zero_link_8_0"/>
    <child link="zero_link_8_1"/>
    <origin rpy="0 0 0" xyz="0 0 0"/>
    <axis xyz="0 1 0"/>
    <limit effort="1000.0" lower="-0.78" upper="0.78" velocity="0.5"/>
  </joint>
  <link name="zero_link_8_1">
    <visual>
      <geometry>
        <cylinder length="0" radius="0"/>
      </geometry>
      <origin rpy="0 0 0" xyz="0 0 0"/>
    </visual>
  </link>
  <joint name="balljoint_8_2" type="revolute">
    <parent link="zero_link_8_1"/>
    <child link="link_8"/>
    <origin rpy="0 0 0" xyz="0 0 0"/>
    <axis xyz="0 0 1"/>
    <limit effort="1000.0" lower="-0.78" upper="0.78" velocity="0.5"/>
  </joint>
  <link name="link_7">
    <visual>
      <geometry>
        <cylinder length="0.02" radius="0.01"/>
      </geometry>
      <origin rpy="0 0 0" xyz="0 0 0.01"/>
      <material name="yellow"/>
    </visual>
    <collision>
      <geometry>
        <cylinder length="0.02" radius="0.01"/>
      </geometry>
      <origin rpy="0 0 0" xyz="0 0 0.01"/>
    </collision>
  </link>
  <joint name="balljoint_7_0" type="revolute">
    <parent link="link_6"/>
    <child link="zero_link_7_0"/>
    <origin rpy="0 0 0" xyz="0 0 0.02"/>
    <axis xyz="1 0 0"/>
    <limit effort="1000.0" lower="-0.78" upper="0.78" velocity="0.5"/>
  </joint>
  <link name="zero_link_7_0">
    <visual>
      <geometry>
        <cylinder length="0" radius="0"/>
      </geometry>
      <origin rpy="0 0 0" xyz="0 0 0"/>
    </visual>
  </link>
  <joint name="balljoint_7_1" type="revolute">
    <parent link="zero_link_7_0"/>
    <child link="zero_link_7_1"/>
    <origin rpy="0 0 0" xyz="0 0 0"/>
    <axis xyz="0 1 0"/>
    <limit effort="1000.0" lower="-0.78" upper="0.78" velocity="0.5"/>
  </joint>
  <link name="zero_link_7_1">
    <visual>
      <geometry>
        <cylinder length="0" radius="0"/>
      </geometry>
      <origin rpy="0 0 0" xyz="0 0 0"/>
    </visual>
  </link>
  <joint name="balljoint_7_2" type="revolute">
    <parent link="zero_link_7_1"/>
    <child link="link_7"/>
    <origin rpy="0 0 0" xyz="0 0 0"/>
    <axis xyz="0 0 1"/>
    <limit effort="1000.0" lower="-0.78" upper="0.78" velocity="0.5"/>
  </joint>
  <link name="link_6">
    <visual>
      <geometry>
        <cylinder length="0.02" radius="0.01"/>
      </geometry>
      <origin rpy="0 0 0" xyz="0 0 0.01"/>
      <material name="yellow"/>
    </visual>
    <collision>
      <geometry>
        <cylinder length="0.02" radius="0.01"/>
      </geometry>
      <origin rpy="0 0 0" xyz="0 0 0.01"/>
    </collision>
  </link>
  <joint name="balljoint_6_0" type="revolute">
    <parent link="link_5"/>
    <child link="zero_link_6_0"/>
    <origin rpy="0 0 0" xyz="0 0 0.02"/>
    <axis xyz="1 0 0"/>
    <limit effort="1000.0" lower="-0.78" upper="0.78" velocity="0.5"/>
  </joint>
  <link name="zero_link_6_0">
    <visual>
      <geometry>
        <cylinder length="0" radius="0"/>
      </geometry>
      <origin rpy="0 0 0" xyz="0 0 0"/>
    </visual>
  </link>
  <joint name="balljoint_6_1" type="revolute">
    <parent link="zero_link_6_0"/>
    <child link="zero_link_6_1"/>
    <origin rpy="0 0 0" xyz="0 0 0"/>
    <axis xyz="0 1 0"/>
    <limit effort="1000.0" lower="-0.78" upper="0.78" velocity="0.5"/>
  </joint>
  <link name="zero_link_6_1">
    <visual>
      <geometry>
        <cylinder length="0" radius="0"/>
      </geometry>
      <origin rpy="0 0 0" xyz="0 0 0"/>
    </visual>
  </link>
  <joint name="balljoint_6_2" type="revolute">
    <parent link="zero_link_6_1"/>
    <child link="link_6"/>
    <origin rpy="0 0 0" xyz="0 0 0"/>
    <axis xyz="0 0 1"/>
    <limit effort="1000.0" lower="-0.78" upper="0.78" velocity="0.5"/>
  </joint>
  <link name="link_5">
    <visual>
      <geometry>
        <cylinder length="0.02" radius="0.01"/>
      </geometry>
      <origin rpy="0 0 0" xyz="0 0 0.01"/>
      <material name="yellow"/>
    </visual>
    <collision>
      <geometry>
        <cylinder length="0.02" radius="0.01"/>
      </geometry>
      <origin rpy="0 0 0" xyz="0 0 0.01"/>
    </collision>
  </link>
  <joint name="balljoint_5_0" type="revolute">
    <parent link="link_4"/>
    <child link="zero_link_5_0"/>
    <origin rpy="0 0 0" xyz="0 0 0.02"/>
    <axis xyz="1 0 0"/>
    <limit effort="1000.0" lower="-0.78" upper="0.78" velocity="0.5"/>
  </joint>
  <link name="zero_link_5_0">
    <visual>
      <geometry>
        <cylinder length="0" radius="0"/>
      </geometry>
      <origin rpy="0 0 0" xyz="0 0 0"/>
    </visual>
  </link>
  <joint name="balljoint_5_1" type="revolute">
    <parent link="zero_link_5_0"/>
    <child link="zero_link_5_1"/>
    <origin rpy="0 0 0" xyz="0 0 0"/>
    <axis xyz="0 1 0"/>
    <limit effort="1000.0" lower="-0.78" upper="0.78" velocity="0.5"/>
  </joint>
  <link name="zero_link_5_1">
    <visual>
      <geometry>
        <cylinder length="0" radius="0"/>
      </geometry>
      <origin rpy="0 0 0" xyz="0 0 0"/>
    </visual>
  </link>
  <joint name="balljoint_5_2" type="revolute">
    <parent link="zero_link_5_1"/>
    <child link="link_5"/>
    <origin rpy="0 0 0" xyz="0 0 0"/>
    <axis xyz="0 0 1"/>
    <limit effort="1000.0" lower="-0.78" upper="0.78" velocity="0.5"/>
  </joint>
  <link name="link_4">
    <visual>
      <geometry>
        <cylinder length="0.02" radius="0.01"/>
      </geometry>
      <origin rpy="0 0 0" xyz="0 0 0.01"/>
      <material name="yellow"/>
    </visual>
    <collision>
      <geometry>
        <cylinder length="0.02" radius="0.01"/>
      </geometry>
      <origin rpy="0 0 0" xyz="0 0 0.01"/>
    </collision>
  </link>
  <joint name="balljoint_4_0" type="revolute">
    <parent link="link_3"/>
    <child link="zero_link_4_0"/>
    <origin rpy="0 0 0" xyz="0 0 0.02"/>
    <axis xyz="1 0 0"/>
    <limit effort="1000.0" lower="-0.78" upper="0.78" velocity="0.5"/>
  </joint>
  <link name="zero_link_4_0">
    <visual>
      <geometry>
        <cylinder length="0" radius="0"/>
      </geometry>
      <origin rpy="0 0 0" xyz="0 0 0"/>
    </visual>
  </link>
  <joint name="balljoint_4_1" type="revolute">
    <parent link="zero_link_4_0"/>
    <child link="zero_link_4_1"/>
    <origin rpy="0 0 0" xyz="0 0 0"/>
    <axis xyz="0 1 0"/>
    <limit effort="1000.0" lower="-0.78" upper="0.78" velocity="0.5"/>
  </joint>
  <link name="zero_link_4_1">
    <visual>
      <geometry>
        <cylinder length="0" radius="0"/>
      </geometry>
      <origin rpy="0 0 0" xyz="0 0 0"/>
    </visual>
  </link>
  <joint name="balljoint_4_2" type="revolute">
    <parent link="zero_link_4_1"/>
    <child link="link_4"/>
    <origin rpy="0 0 0" xyz="0 0 0"/>
    <axis xyz="0 0 1"/>
    <limit effort="1000.0" lower="-0.78" upper="0.78" velocity="0.5"/>
  </joint>
  <link name="link_3">
    <visual>
      <geometry>
        <cylinder length="0.02" radius="0.01"/>
      </geometry>
      <origin rpy="0 0 0" xyz="0 0 0.01"/>
      <material name="yellow"/>
    </visual>
    <collision>
      <geometry>
        <cylinder length="0.02" radius="0.01"/>
      </geometry>
      <origin rpy="0 0 0" xyz="0 0 0.01"/>
    </collision>
  </link>
  <joint name="balljoint_3_0" type="revolute">
    <parent link="link_2"/>
    <child link="zero_link_3_0"/>
    <origin rpy="0 0 0" xyz="0 0 0.02"/>
    <axis xyz="1 0 0"/>
    <limit effort="1000.0" lower="-0.78" upper="0.78" velocity="0.5"/>
  </joint>
  <link name="zero_link_3_0">
    <visual>
      <geometry>
        <cylinder length="0" radius="0"/>
      </geometry>
      <origin rpy="0 0 0" xyz="0 0 0"/>
    </visual>
  </link>
  <joint name="balljoint_3_1" type="revolute">
    <parent link="zero_link_3_0"/>
    <child link="zero_link_3_1"/>
    <origin rpy="0 0 0" xyz="0 0 0"/>
    <axis xyz="0 1 0"/>
    <limit effort="1000.0" lower="-0.78" upper="0.78" velocity="0.5"/>
  </joint>
  <link name="zero_link_3_1">
    <visual>
      <geometry>
        <cylinder length="0" radius="0"/>
      </geometry>
      <origin rpy="0 0 0" xyz="0 0 0"/>
    </visual>
  </link>
  <joint name="balljoint_3_2" type="revolute">
    <parent link="zero_link_3_1"/>
    <child link="link_3"/>
    <origin rpy="0 0 0" xyz="0 0 0"/>
    <axis xyz="0 0 1"/>
    <limit effort="1000.0" lower="-0.78" upper="0.78" velocity="0.5"/>
  </joint>
  <link name="link_2">
    <visual>
      <geometry>
        <cylinder length="0.02" radius="0.01"/>
      </geometry>
      <origin rpy="0 0 0" xyz="0 0 0.01"/>
      <material name="yellow"/>
    </visual>
    <collision>
      <geometry>
        <cylinder length="0.02" radius="0.01"/>
      </geometry>
      <origin rpy="0 0 0" xyz="0 0 0.01"/>
    </collision>
  </link>
  <joint name="balljoint_2_0" type="revolute">
    <parent link="link_1"/>
    <child link="zero_link_2_0"/>
    <origin rpy="0 0 0" xyz="0 0 0.02"/>
    <axis xyz="1 0 0"/>
    <limit effort="1000.0" lower="-0.78" upper="0.78" velocity="0.5"/>
  </joint>
  <link name="zero_link_2_0">
    <visual>
      <geometry>
        <cylinder length="0" radius="0"/>
      </geometry>
      <origin rpy="0 0 0" xyz="0 0 0"/>
    </visual>
  </link>
  <joint name="balljoint_2_1" type="revolute">
    <parent link="zero_link_2_0"/>
    <child link="zero_link_2_1"/>
    <origin rpy="0 0 0" xyz="0 0 0"/>
    <axis xyz="0 1 0"/>
    <limit effort="1000.0" lower="-0.78" upper="0.78" velocity="0.5"/>
  </joint>
  <link name="zero_link_2_1">
    <visual>
      <geometry>
        <cylinder length="0" radius="0"/>
      </geometry>
      <origin rpy="0 0 0" xyz="0 0 0"/>
    </visual>
  </link>
  <joint name="balljoint_2_2" type="revolute">
    <parent link="zero_link_2_1"/>
    <child link="link_2"/>
    <origin rpy="0 0 0" xyz="0 0 0"/>
    <axis xyz="0 0 1"/>
    <limit effort="1000.0" lower="-0.78" upper="0.78" velocity="0.5"/>
  </joint>
  <link name="link_1">
    <visual>
      <geometry>
        <cylinder length="0.02" radius="0.01"/>
      </geometry>
      <origin rpy="0 0 0" xyz="0 0 0.01"/>
      <material name="yellow"/>
    </visual>
    <collision>
      <geometry>
        <cylinder length="0.02" radius="0.01"/>
      </geometry>
      <origin rpy="0 0 0" xyz="0 0 0.01"/>
    </collision>
  </link>
  <joint name="balljoint_1_0" type="revolute">
    <parent link="link_0"/>
    <child link="zero_link_1_0"/>
    <origin rpy="0 0 0" xyz="0 0 0.2"/>
    <axis xyz="1 0 0"/>
    <limit effort="1000.0" lower="-0.78" upper="0.78" velocity="0.5"/>
  </joint>
  <link name="zero_link_1_0">
    <visual>
      <geometry>
        <cylinder length="0" radius="0"/>
      </geometry>
      <origin rpy="0 0 0" xyz="0 0 0"/>
    </visual>
  </link>
  <joint name="balljoint_1_1" type="revolute">
    <parent link="zero_link_1_0"/>
    <child link="zero_link_1_1"/>
    <origin rpy="0 0 0" xyz="0 0 0"/>
    <axis xyz="0 1 0"/>
    <limit effort="1000.0" lower="-0.78" upper="0.78" velocity="0.5"/>
  </joint>
  <link name="zero_link_1_1">
    <visual>
      <geometry>
        <cylinder length="0" radius="0"/>
      </geometry>
      <origin rpy="0 0 0" xyz="0 0 0"/>
    </visual>
  </link>
  <joint name="balljoint_1_2" type="revolute">
    <parent link="zero_link_1_1"/>
    <child link="link_1"/>
    <origin rpy="0 0 0" xyz="0 0 0"/>
    <axis xyz="0 0 1"/>
    <limit effort="1000.0" lower="-0.78" upper="0.78" velocity="0.5"/>
  </joint>
  <!-- <link name = "link_snake">
    <inertial>
      <origin rpy="0 0 0" xyz="0 -0.016 0.161"/>
      <mass value="7.7"/>
      <inertia ixx="0.06718763333333333" ixy="0" ixz="0" iyy="0.06653056666666667" iyz="0" izz="0.0006570666666666666"/>
    </inertial>
    <visual>
      <geometry>
        <mesh filename="package://medsnake_sim/meshModel/snake_part.STL" scale="0.001 0.001 0.001"/>
      </geometry>
      <origin rpy="0 0 0" xyz="-0.022 -0.02 -0.02"/>
      <material name="yellow"/>
    </visual>
  </link> -->
  <!-- <link name="test">
    <visual>
      <geometry>
        <cylinder length="0.3" radius="0.02" />
      </geometry>
      <origin rpy="0 0 0" xyz="0 0 0.15" />
      <material name="yellow" />
    </visual>
  </link>

  <joint name="balljoint_1" type="revolute">
    <parent link="test" />
    <child link="test2" />
    <origin rpy="0 0 0" xyz="0 0 0.3" />
    <axis xyz="1 0 0" />
    <limit effort="1000.0" lower="-0.548" upper="0.548" velocity="0.5" />
  </joint>
  <joint name="balljoint_2" type="revolute">
    <parent link="test2" />
    <child link="test3" />
    <origin rpy="0 0 0" xyz="0 0 0" />
    <axis xyz="0 1 0" />
    <limit effort="1000.0" lower="-0.548" upper="0.548" velocity="0.5" />
  </joint>
  <joint name="balljoint_3" type="revolute">
    <parent link="test3" />
    <child link="test4" />
    <origin rpy="0 0 0" xyz="0 0 0" />
    <axis xyz="0 0 1" />
    <limit effort="1000.0" lower="-0.548" upper="0.548" velocity="0.5" />
  </joint>
  <joint name="balljoint_4" type="revolute">
    <parent link="test4" />
    <child link="test5" />
    <origin rpy="0 0 0" xyz="0 0 0.1" />
    <axis xyz="1 0 0" />
    <limit effort="1000.0" lower="-0.548" upper="0.548" velocity="0.5" />
  </joint>
  <joint name="balljoint_5" type="revolute">
    <parent link="test5" />
    <child link="test6" />
    <origin rpy="0 0 0" xyz="0 0 0" />
    <axis xyz="0 1 0" />
    <limit effort="1000.0" lower="-0.548" upper="0.548" velocity="0.5" />
  </joint>
  <joint name="balljoint_6" type="revolute">
    <parent link="test6" />
    <child link="test7" />
    <origin rpy="0 0 0" xyz="0 0 0" />
    <axis xyz="0 0 1" />
    <limit effort="1000.0" lower="-0.548" upper="0.548" velocity="0.5" />
  </joint>
  <link name="test2">
    <inertial>
      <origin rpy="0 0 0" xyz="0 0 0" />
      <mass value="7.7" />
      <inertia ixx="0.06718763333333333" ixy="0" ixz="0" iyy="0.06653056666666667" iyz="0" izz="0.0006570666666666666" />
    </inertial>
    <visual>
      <geometry>
        <cylinder length="0" radius="0" />
      </geometry>
      <origin rpy="0 0 0" xyz="0 0 0" />
      <material name="yellow" />
    </visual>
  </link>
  <link name="test3">
    <inertial>
      <origin rpy="0 0 0" xyz="0 0 0" />
      <mass value="7.7" />
      <inertia ixx="0.06718763333333333" ixy="0" ixz="0" iyy="0.06653056666666667" iyz="0" izz="0.0006570666666666666" />
    </inertial>
    <visual>
      <geometry>
        <cylinder length="0" radius="0" />
      </geometry>
      <origin rpy="0 0 0" xyz="0 0 0" />
      <material name="yellow" />
    </visual>
  </link>
  <link name="test4">
    <inertial>
      <origin rpy="0 0 0" xyz="0 0 0" />
      <mass value="7.7" />
      <inertia ixx="0.06718763333333333" ixy="0" ixz="0" iyy="0.06653056666666667" iyz="0" izz="0.0006570666666666666" />
    </inertial>
    <visual>
      <geometry>
        <cylinder length="0.1" radius="0.02" />
      </geometry>
      <origin rpy="0 0 0" xyz="0 0 0.05" />
      <material name="yellow" />
    </visual>
  </link>
  <link name="test5">
    <inertial>
      <origin rpy="0 0 0" xyz="0 0 0" />
      <mass value="7.7" />
      <inertia ixx="0.06718763333333333" ixy="0" ixz="0" iyy="0.06653056666666667" iyz="0" izz="0.0006570666666666666" />
    </inertial>
    <visual>
      <geometry>
        <cylinder length="0" radius="0" />
      </geometry>
      <origin rpy="0 0 0" xyz="0 0 0" />
      <material name="yellow" />
    </visual>
  </link>
  <link name="test6">
    <inertial>
      <origin rpy="0 0 0" xyz="0 0 0" />
      <mass value="7.7" />
      <inertia ixx="0.06718763333333333" ixy="0" ixz="0" iyy="0.06653056666666667" iyz="0" izz="0.0006570666666666666" />
    </inertial>
    <visual>
      <geometry>
        <cylinder length="0" radius="0" />
      </geometry>
      <origin rpy="0 0 0" xyz="0 0 0" />
      <material name="yellow" />
    </visual>
  </link>
  <link name="test7">
    <inertial>
      <origin rpy="0 0 0" xyz="0 0 0" />
      <mass value="7.7" />
      <inertia ixx="0.06718763333333333" ixy="0" ixz="0" iyy="0.06653056666666667" iyz="0" izz="0.0006570666666666666" />
    </inertial>
    <visual>
      <geometry>
        <cylinder length="0.1" radius="0.02" />
      </geometry>
      <origin rpy="0 0 0" xyz="0 0 0.05" />
      <material name="yellow" />
    </visual>
  </link> -->
</robot>
